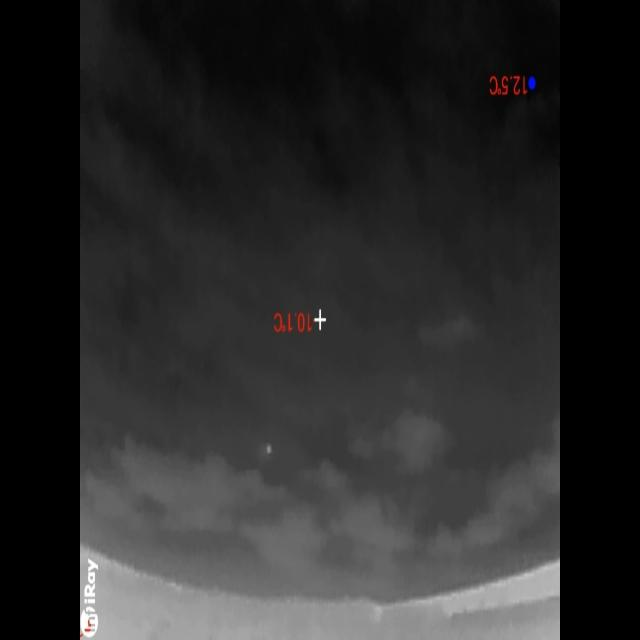drone: (265, 438, 275, 458)
